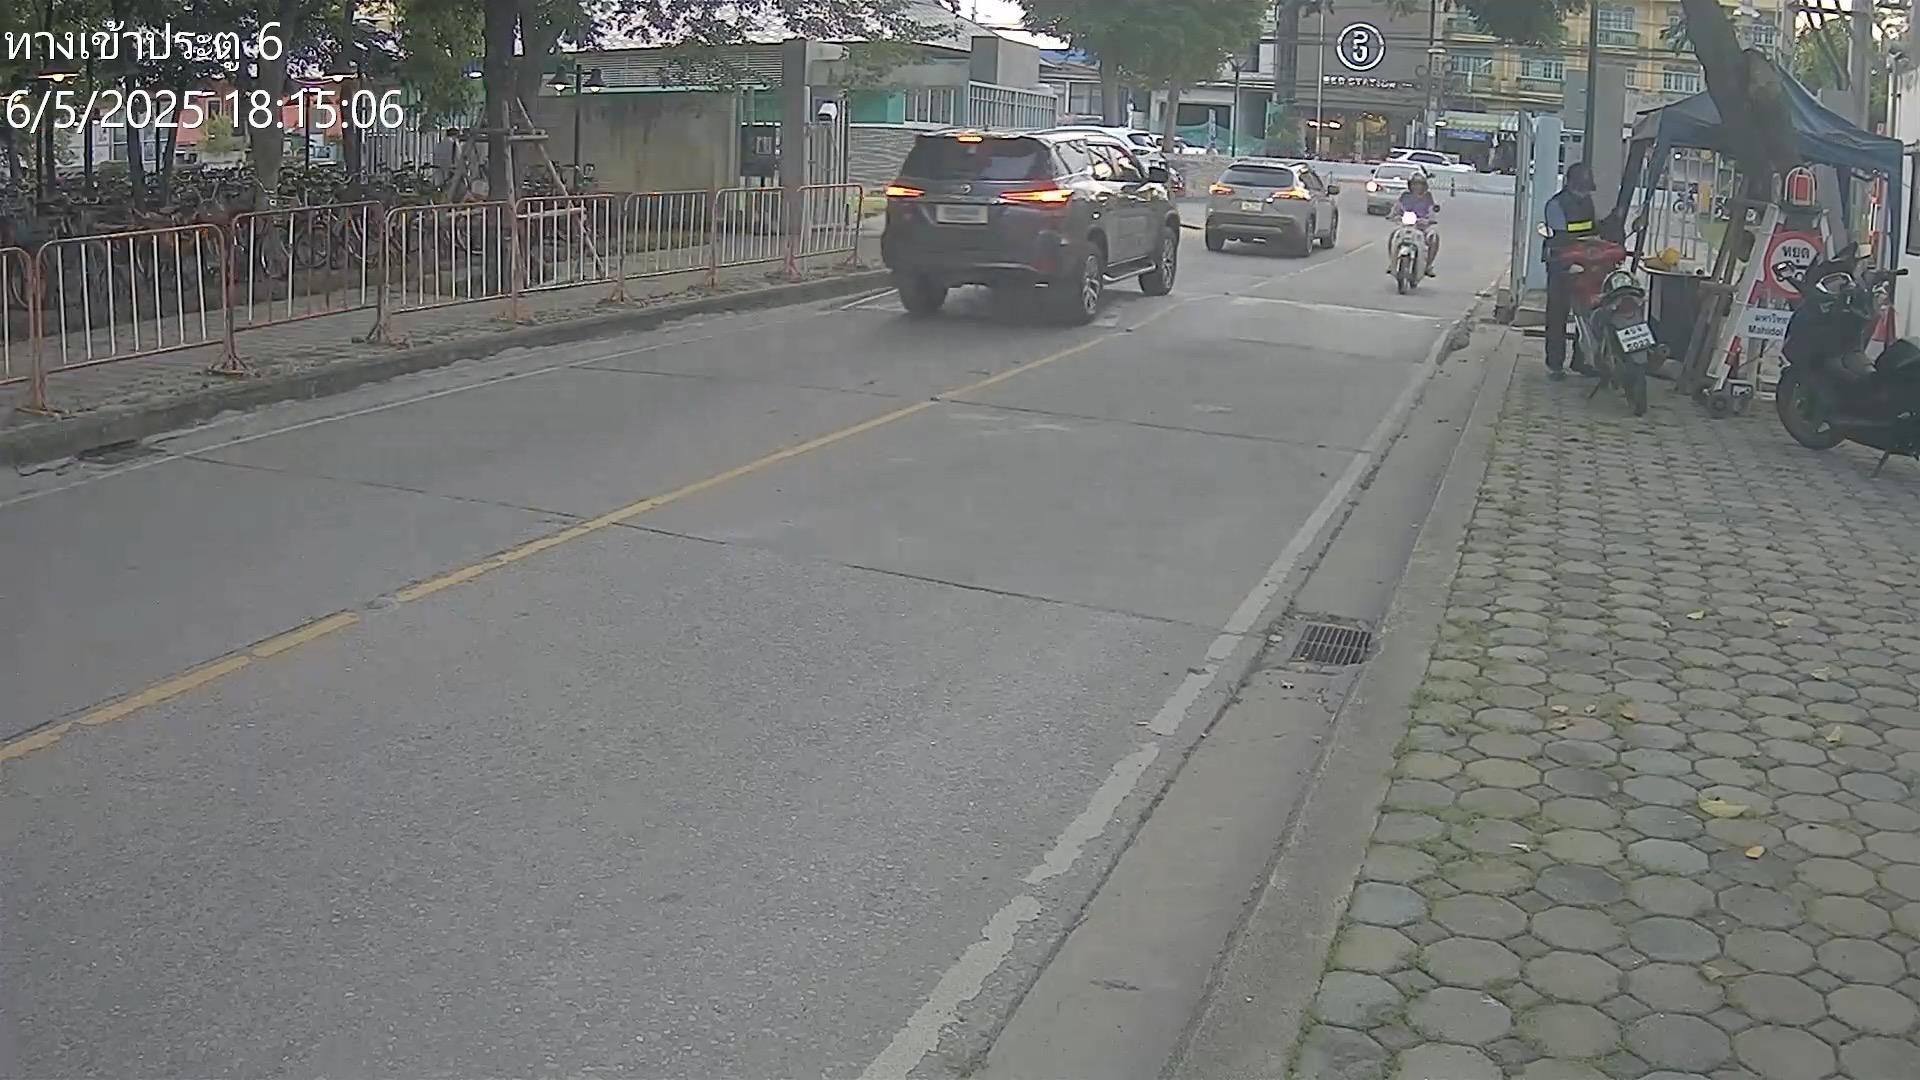With-Helmet: (1408, 171, 1429, 194)
